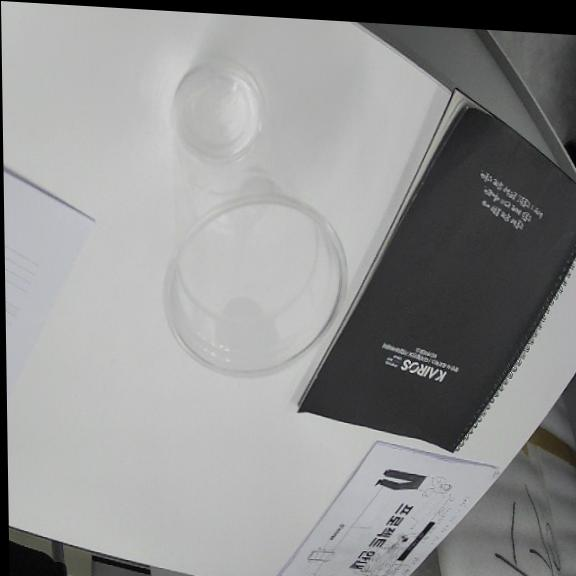Plastik: (159, 57, 349, 380)
